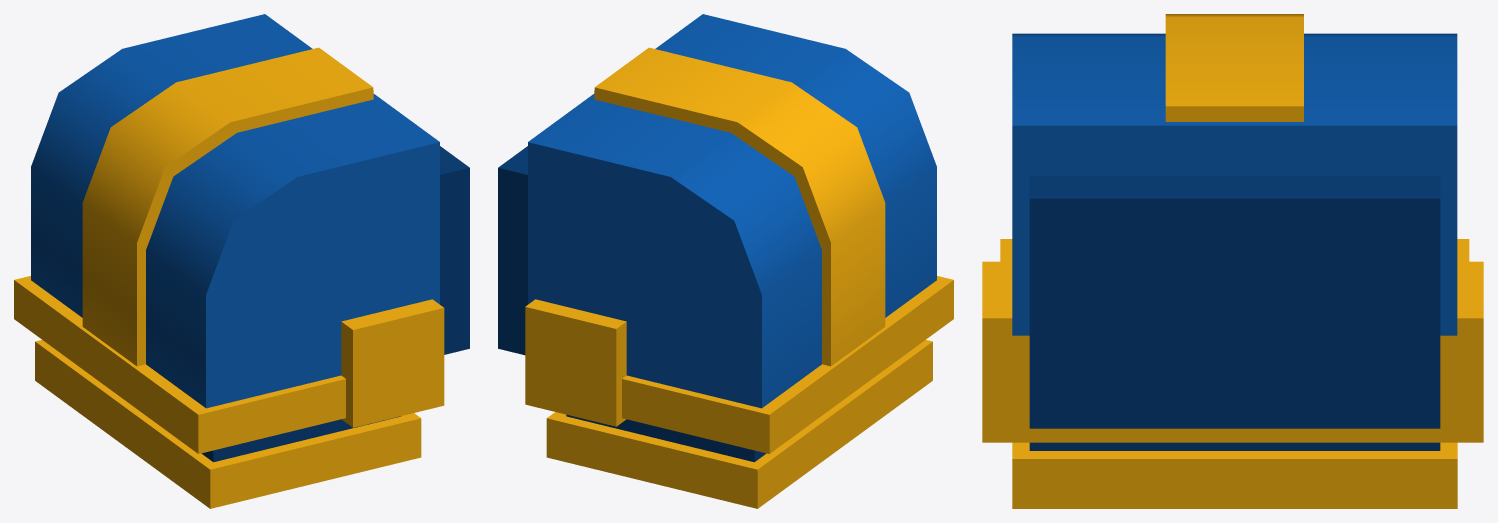
Rendered from Shoulder 08.FBX.
3 views of the same model, side by side, from view 1: azimuth 30°, elevation 25°; view 2: azimuth 150°, elevation 25°; view 3: azimuth 270°, elevation 25° (orthographic). The views are drawn at different scales.
Visible parts, largest first — view 1: Shoulder 08; view 2: Shoulder 08; view 3: Shoulder 08.
Boxes of the visible parts, box(x1,y1,x2,y2) form: Shoulder 08: box(14, 14, 469, 508); Shoulder 08: box(498, 14, 953, 508); Shoulder 08: box(982, 14, 1483, 508).
Bounding box in the file's own units: 23.71 × 25.85 × 28.61.
Materials: 1 (1 with a texture image).
